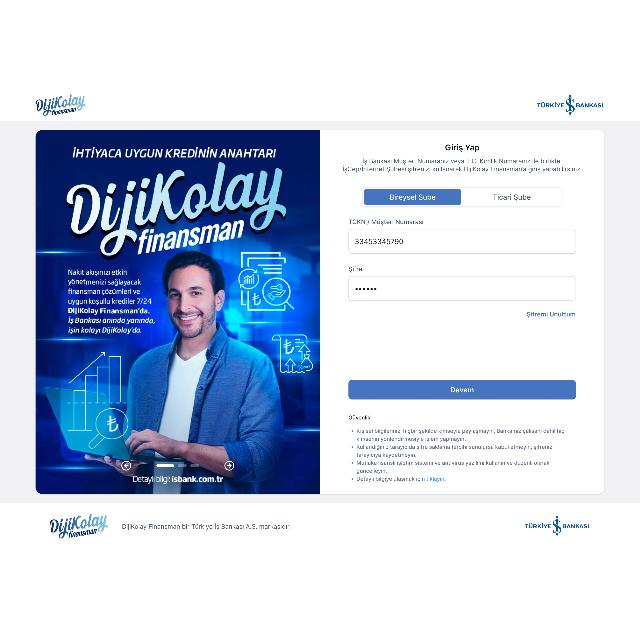QLabel: (339, 156, 587, 174), (349, 444, 565, 460), (350, 428, 566, 442), (350, 461, 564, 475), (120, 520, 292, 532), (346, 218, 428, 226), (387, 192, 437, 202), (442, 141, 482, 153), (350, 477, 424, 483), (492, 194, 532, 202), (526, 312, 576, 318), (347, 414, 371, 422), (450, 386, 474, 394), (346, 266, 366, 272), (426, 478, 446, 482)
VAppBar: (1, 90, 640, 122)
VBtn: (348, 380, 576, 400)
VCard: (36, 131, 604, 495)
VCarousel: (38, 132, 320, 494)
VDivider: (114, 518, 116, 536)
VFooter: (1, 504, 639, 550)
VImg: (520, 512, 598, 540), (45, 510, 111, 540), (532, 93, 608, 117), (32, 92, 90, 118)
VTabs: (342, 188, 580, 322)
VTextField: (348, 229, 578, 255), (348, 276, 578, 302)
